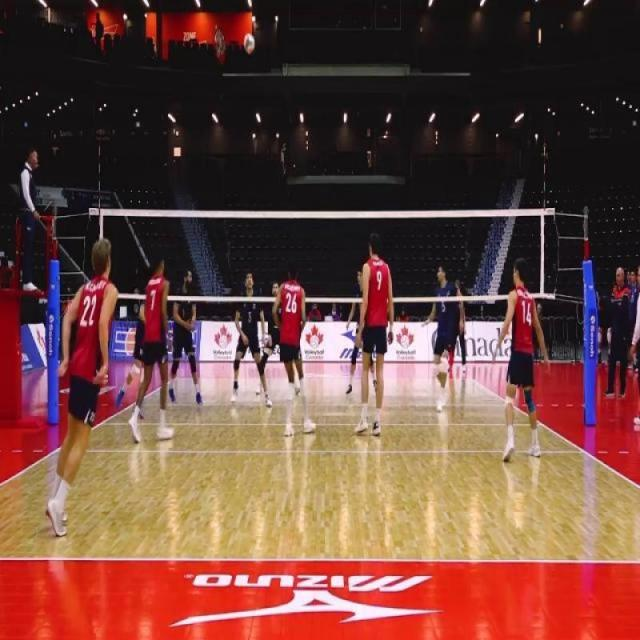volleyball: (243, 31, 256, 56)
